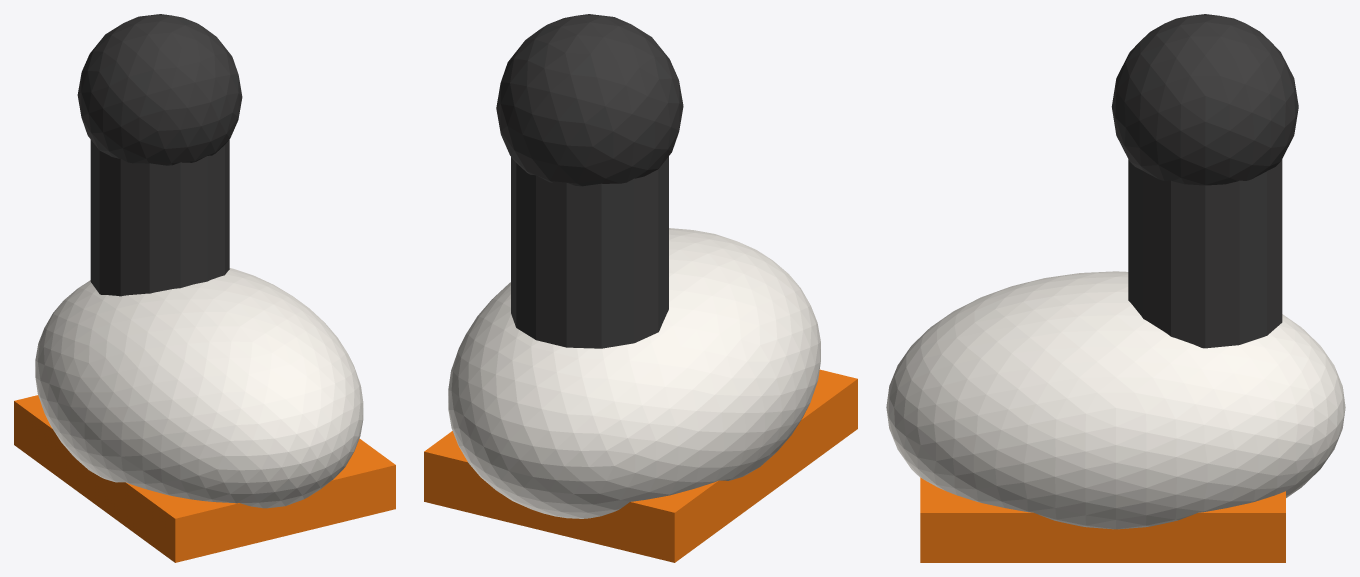
The model's file is robot_leg_l.obj.
The picture shows the model from 3 angles, left to right: view 1: azimuth 30°, elevation 25°; view 2: azimuth 150°, elevation 25°; view 3: azimuth 270°, elevation 25°; orthographic projection. The views are drawn at different scales.
Parts seen in each view (by area): view 1: white, dark, orange; view 2: white, dark, orange; view 3: white, dark, orange.
Part boxes in pixels (box(x1,y1,x2,y2)): white: box(35, 268, 363, 508); dark: box(77, 14, 242, 296); orange: box(14, 395, 395, 562); white: box(448, 228, 820, 518); dark: box(496, 14, 683, 348); orange: box(424, 369, 857, 562); white: box(886, 271, 1345, 529); dark: box(1111, 14, 1298, 348); orange: box(920, 477, 1285, 562).
Size of the model in its own units: 0.4 by 0.65 by 0.54.
